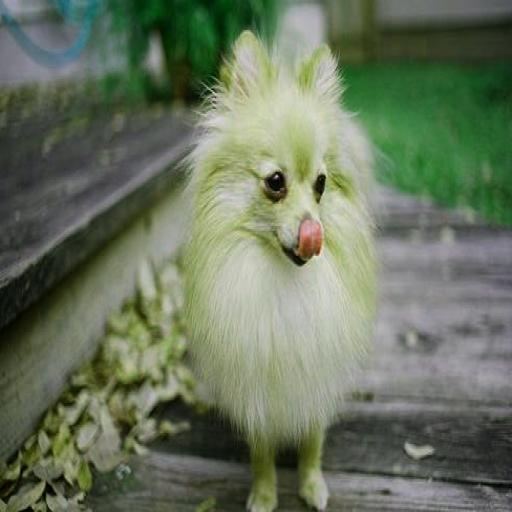dog_face: (210, 39, 340, 288)
